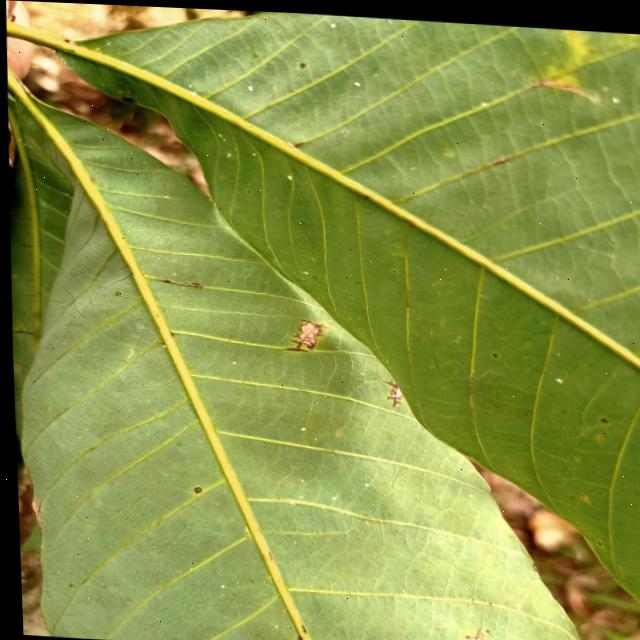Colletotrichum: (189, 485, 198, 491)
Corynespora: (282, 314, 322, 350), (451, 619, 500, 640), (379, 373, 399, 406)
